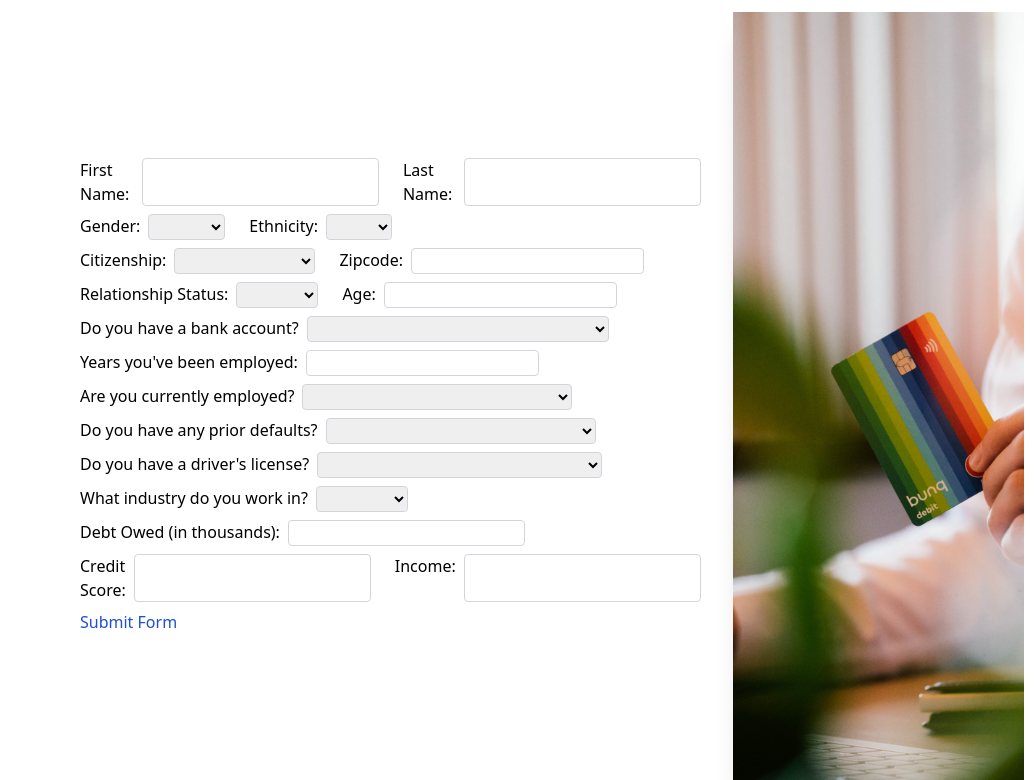
Test case: Form Component › form submission with incomplete data shows error
Click the button "Submit Form" at point(129, 622), box x1=80 y1=610 x2=177 y2=634
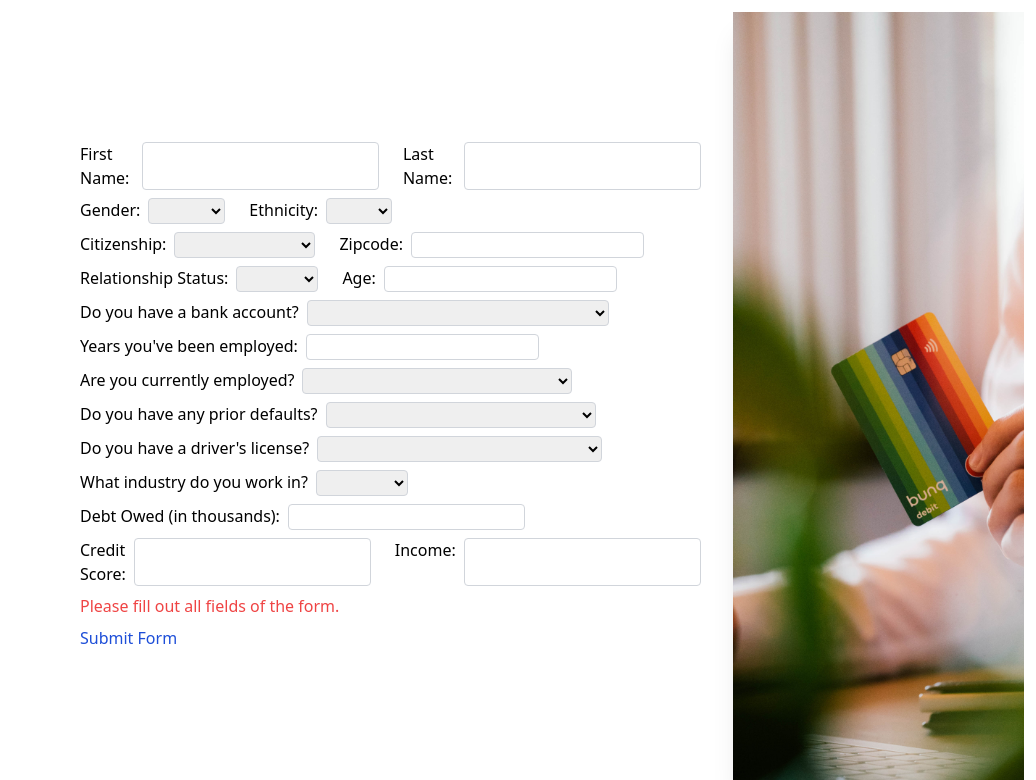
Expected: the text "Please fill out all fields of the form." is shown, x1=80 y1=594 x2=339 y2=618
